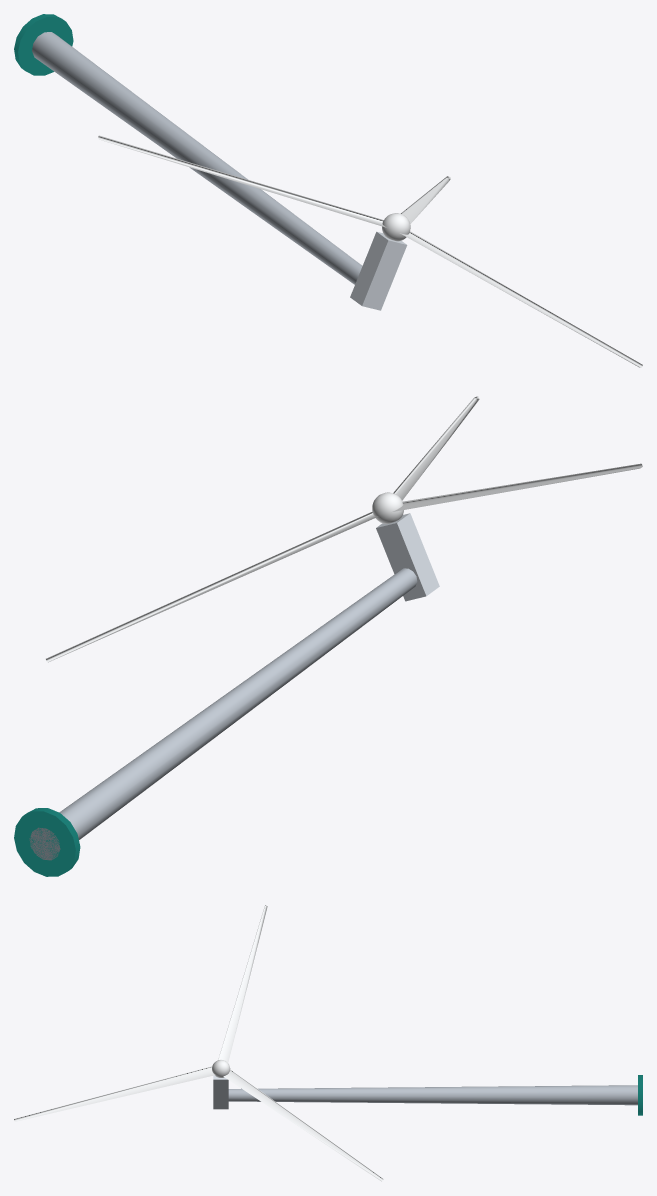
Rendered from windkraftwerk.gltf.
The picture shows the model from 3 angles, top to bottom: view 1: azimuth 30°, elevation 25°; view 2: azimuth 150°, elevation 25°; view 3: azimuth 270°, elevation 25°; orthographic projection. The views are drawn at different scales.
Parts seen in each view (by area): view 1: tapered_tower, rotor_blade_low_poly (×3), nacelle, map_marker_base, rotor_hub; view 2: tapered_tower, rotor_blade_low_poly (×3), map_marker_base, nacelle, rotor_hub; view 3: tapered_tower, rotor_blade_low_poly (×3), nacelle.
Part boxes in pixels (x1=…): tapered_tower: x1=32, y1=32, x2=362, y2=284; rotor_blade_low_poly (×3): x1=98, y1=135, x2=642, y2=367; nacelle: x1=350, y1=231, x2=407, y2=310; map_marker_base: x1=14, y1=14, x2=73, y2=75; rotor_hub: x1=382, y1=213, x2=410, y2=241; tapered_tower: x1=29, y1=568, x2=417, y2=860; rotor_blade_low_poly (×3): x1=46, y1=396, x2=642, y2=662; map_marker_base: x1=14, y1=808, x2=80, y2=876; nacelle: x1=376, y1=513, x2=439, y2=601; rotor_hub: x1=372, y1=492, x2=403, y2=523; tapered_tower: x1=228, y1=1085, x2=637, y2=1105; rotor_blade_low_poly (×3): x1=14, y1=905, x2=383, y2=1181; nacelle: x1=213, y1=1075, x2=228, y2=1109.
Size of the model in its own units: 128 by 60.1 by 246.
